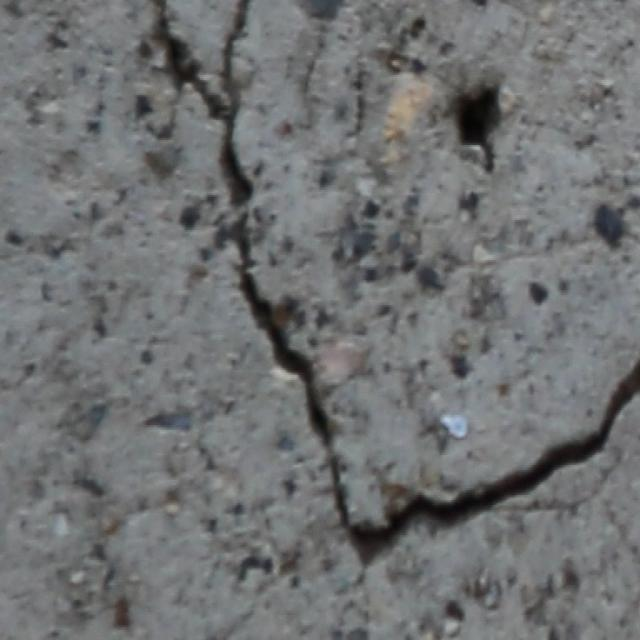crack: (149, 2, 639, 564), (450, 81, 511, 175)
